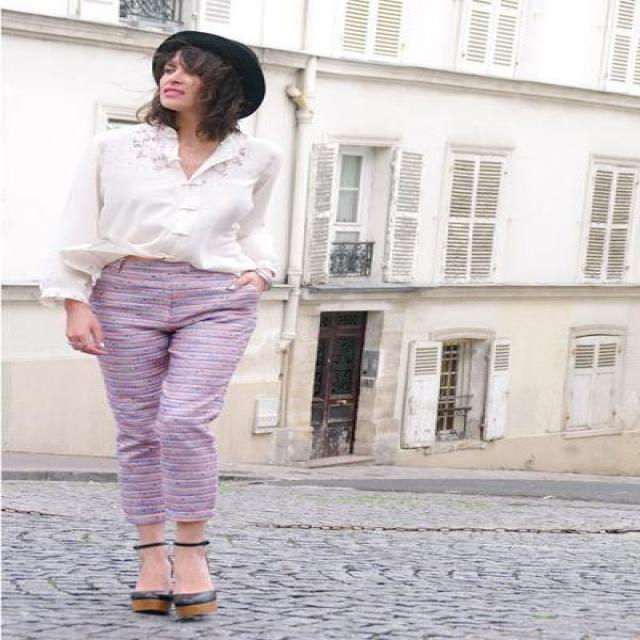hat: (157, 31, 264, 114)
pants: (64, 255, 256, 524)
shirt: (37, 119, 331, 302)
shoe: (134, 593, 202, 622)
